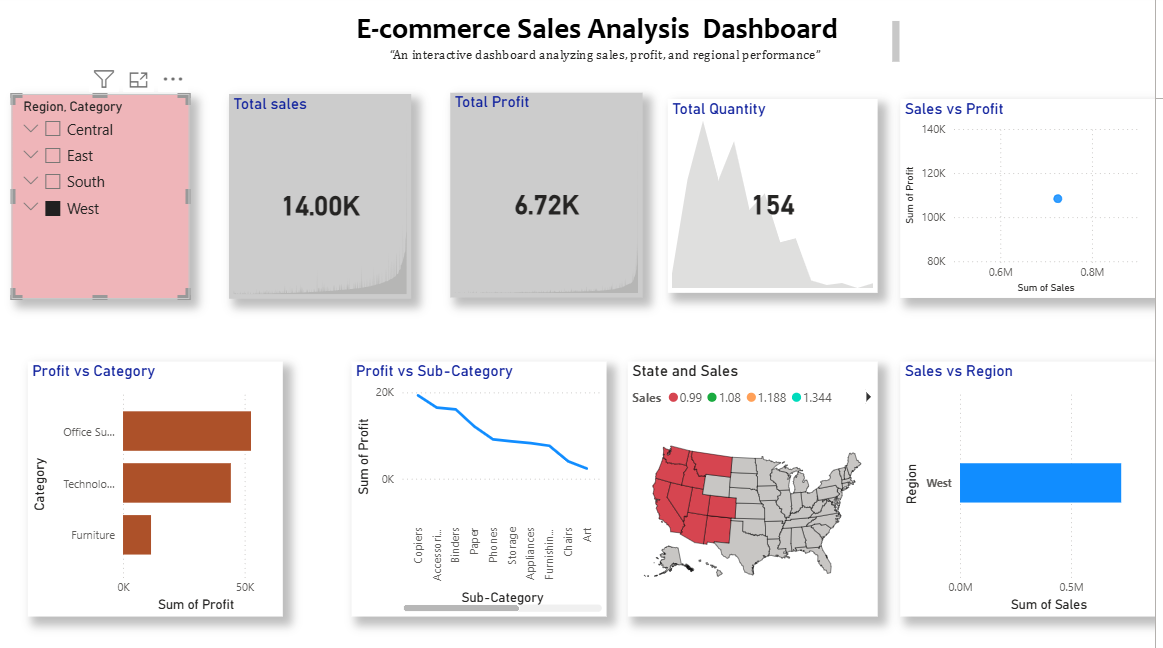

This screenshot's page, from the dashboard's own definition file:
{"tool":"powerbi","page":{"name":"Page 1","canvas":[1280,720],"ordinal":0},"visuals":[{"type":"clusteredBarChart","title":" Sales vs Region","fields":{"Y":["Sum(SampleSuperstore csv zip.Sales)"],"Category":["SampleSuperstore csv zip.Region"]},"box":[1000.3,403.4,279.9,279.9],"z":0},{"type":"clusteredBarChart","title":" Profit vs Category","fields":{"Y":["Sum(SampleSuperstore csv zip.Profit)"],"Category":["SampleSuperstore csv zip.Category"]},"box":[43,404,280,280],"z":1000},{"type":"scatterChart","title":"Sales vs Profit","fields":{"X":["Sum(SampleSuperstore csv zip.Sales)"],"Y":["Sum(SampleSuperstore csv zip.Profit)"]},"box":[1000.3,115.3,279.9,218.2],"z":2000},{"type":"lineChart","title":"Profit vs Sub-Category","fields":{"Category":["SampleSuperstore csv zip.Sub-Category"],"Y":["Sum(SampleSuperstore csv zip.Profit)"]},"box":[398,404,280,280],"z":3000},{"type":"kpi","title":"Total sales","fields":{"TrendLine":["SampleSuperstore csv zip.Sales"],"Indicator":["Sum(SampleSuperstore csv zip.Sales)"]},"box":[263.5,109.8,200.3,225],"z":4000},{"type":"kpi","title":"Total  Profit","fields":{"Indicator":["Sum(SampleSuperstore csv zip.Profit)"],"TrendLine":["SampleSuperstore csv zip.Profit"]},"box":[506.3,108.4,211.3,225],"z":5000},{"type":"textbox","box":[397.9,19.2,606.5,60.4],"z":6000},{"type":"shapeMap","fields":{"Category":["SampleSuperstore csv zip.State"],"Series":["SampleSuperstore csv zip.Sales"]},"box":[701.2,403.4,274.4,279.9],"z":7000},{"type":"kpi","title":"Total Quantity","fields":{"Indicator":["Sum(SampleSuperstore csv zip.Quantity)"],"TrendLine":["SampleSuperstore csv zip.Quantity"]},"box":[745.1,115.3,230.5,212.7],"z":8000},{"type":"slicer","fields":{"Values":["SampleSuperstore csv zip.Region","SampleSuperstore csv zip.Category"]},"box":[24.7,109.8,194.9,225],"z":9000}]}

Visuals, with their boxes in screenshot pixels (x1, y1, x2, y2), scaled from the page's 1280x720 canvas onto the 1163x648 screenshot:
" Sales vs Region" clusteredBarChart: bbox=(909, 363, 1162, 615)
" Profit vs Category" clusteredBarChart: bbox=(39, 364, 293, 616)
"Sales vs Profit" scatterChart: bbox=(909, 104, 1162, 300)
"Profit vs Sub-Category" lineChart: bbox=(362, 364, 616, 616)
"Total sales" kpi: bbox=(239, 99, 421, 301)
"Total  Profit" kpi: bbox=(460, 98, 652, 300)
textbox: bbox=(362, 17, 913, 72)
shapeMap - SampleSuperstore csv zip.State x SampleSuperstore csv zip.Sales: bbox=(637, 363, 886, 615)
"Total Quantity" kpi: bbox=(677, 104, 886, 295)
slicer - SampleSuperstore csv zip.Region x SampleSuperstore csv zip.Category: bbox=(22, 99, 200, 301)
